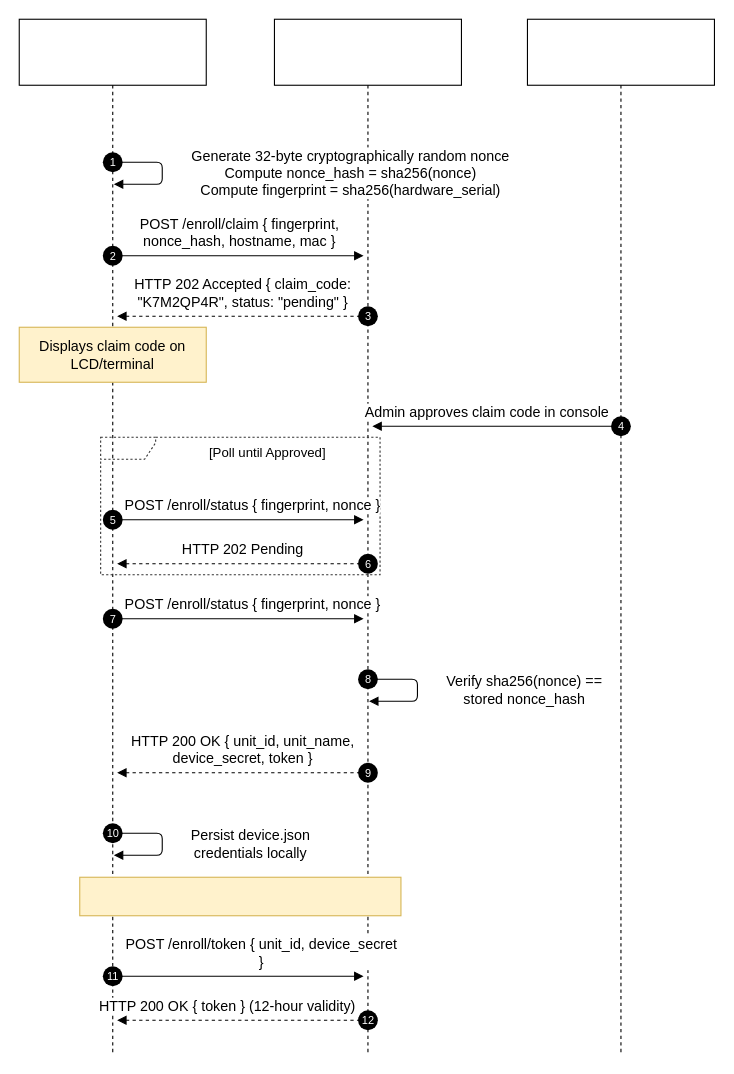
The diagram is 734 pixels wide and 1074 high, and some of its shapes have lost their labels. The shapes that lost their labels are listed below. From the top down, each one's box as (x1, y1, x2, y2) in pixels, then its label:
(100, 436, 380, 575): loop
(18, 18, 206, 1054): Robot (enroll.py)
(273, 18, 461, 1054): backend_node (/enroll)
(526, 18, 714, 1054): Admin Web Console
(79, 876, 401, 916): Subsequent System Boots
